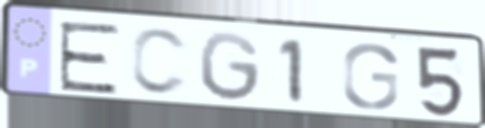1: (275, 37, 308, 106)
5: (413, 43, 467, 119)
C: (127, 25, 192, 100)
E: (55, 20, 123, 96)
G: (196, 29, 264, 105), (339, 41, 402, 113)
